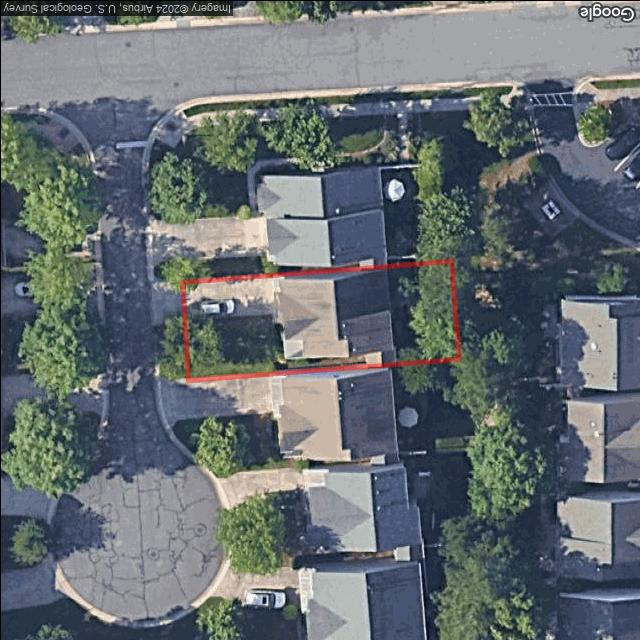Driveway: (180, 278, 278, 318)
Extra-Driveway: (154, 281, 184, 320)
Extra-Lawn: (161, 318, 188, 379)
House: (277, 266, 399, 358)
Lawn: (181, 259, 457, 379)
Sidewalk: (271, 314, 279, 322)
